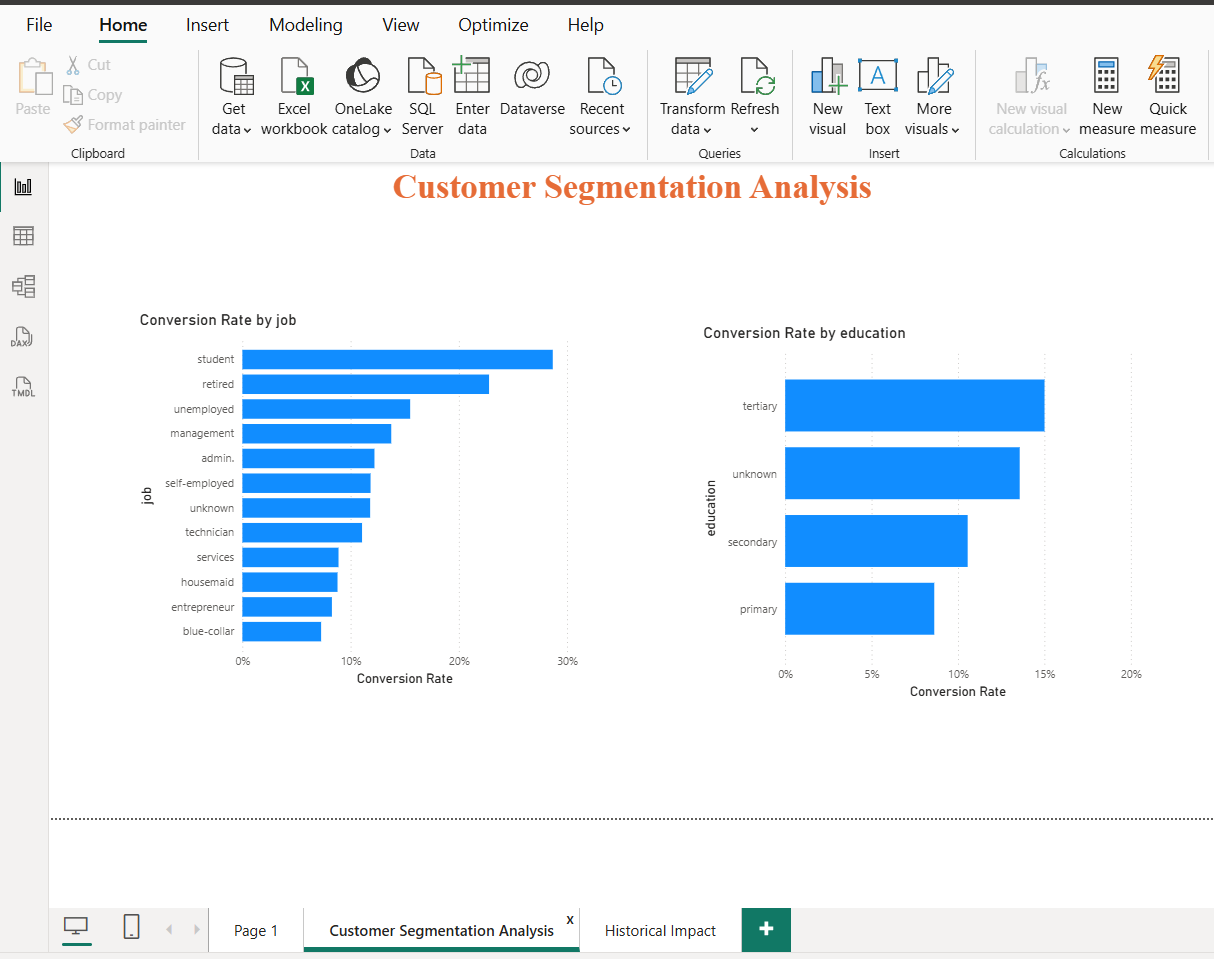

The page's visual inventory and layout, read from the dashboard file:
{"tool":"powerbi","page":{"name":"Customer Segmentation Analysis","canvas":[1280,720],"ordinal":1},"visuals":[{"type":"textbox","box":[0,0,1280.3,56.3],"z":0},{"type":"clusteredBarChart","fields":{"Category":["raw_bank_marketing.job"],"Y":["raw_bank_marketing.Conversion Rate"]},"box":[94.7,163.3,491.3,417.2],"z":1},{"type":"clusteredBarChart","fields":{"Category":["raw_bank_marketing.education"],"Y":["raw_bank_marketing.Conversion Rate"]},"box":[713.6,177,491.3,417.2],"z":2}]}

Visuals, with their boxes on the page's 1280x720 design canvas (x1, y1, x2, y2). These are canvas units, not pixel positions in the 1214x959 screenshot, which may show the page scaled, cropped or inside an application window:
textbox: [x1=0, y1=0, x2=1280, y2=56]
clusteredBarChart - raw_bank_marketing.job x raw_bank_marketing.Conversion Rate: [x1=95, y1=163, x2=586, y2=580]
clusteredBarChart - raw_bank_marketing.education x raw_bank_marketing.Conversion Rate: [x1=714, y1=177, x2=1205, y2=594]
